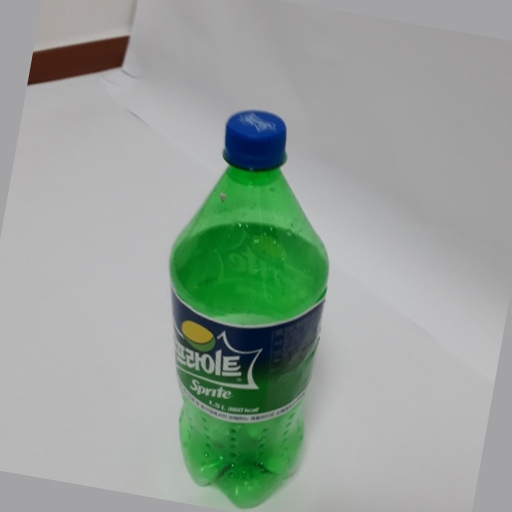Plastic_0: (157, 102, 333, 506)
